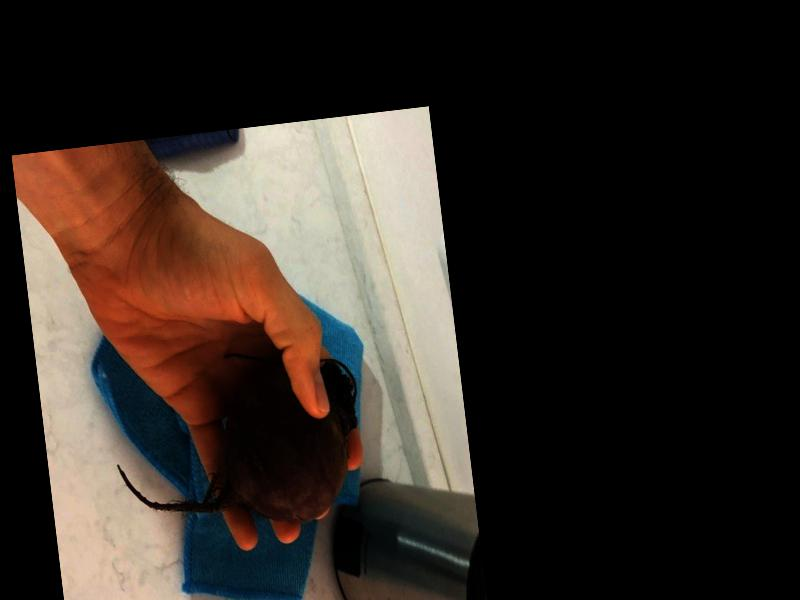Beet: (105, 340, 370, 543)
